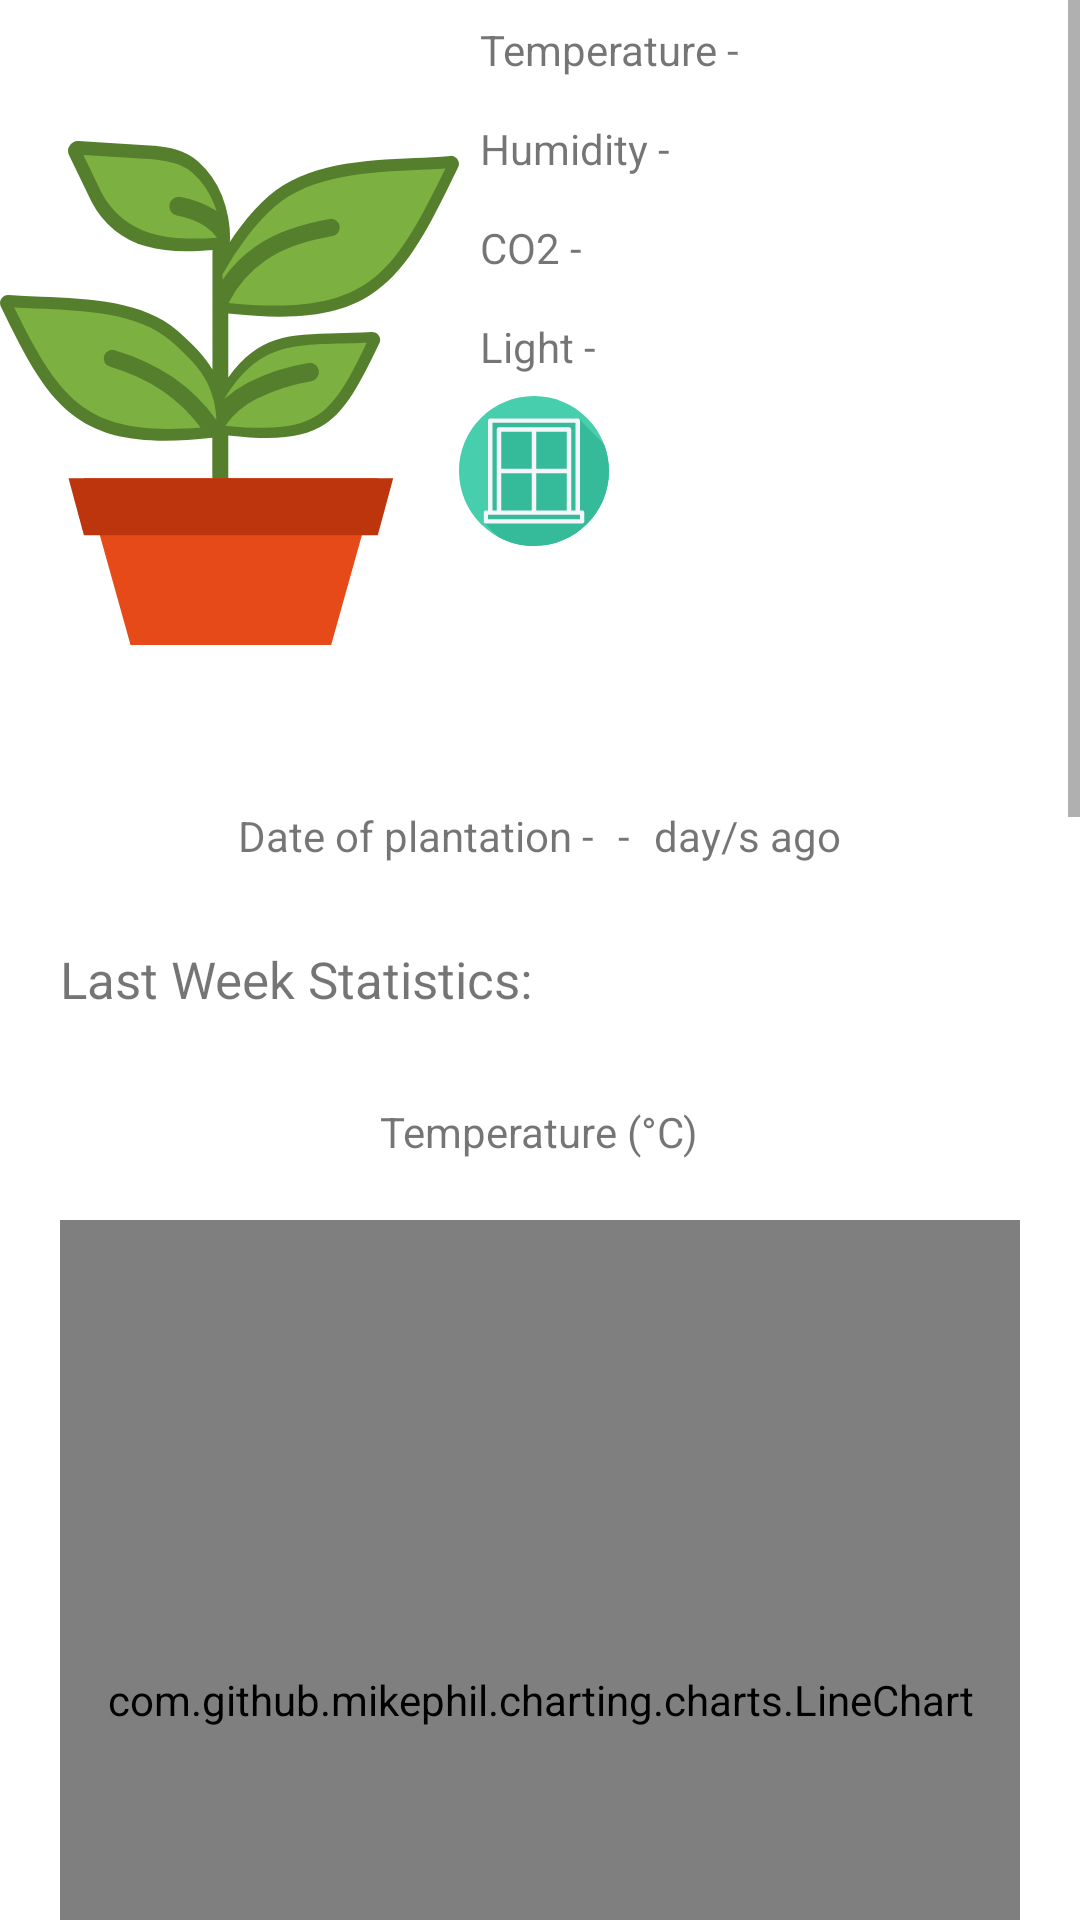

Icons on this 1080 × 1920 Android screen, each with the point to tap as [x,y]:
window close: [534,471]
